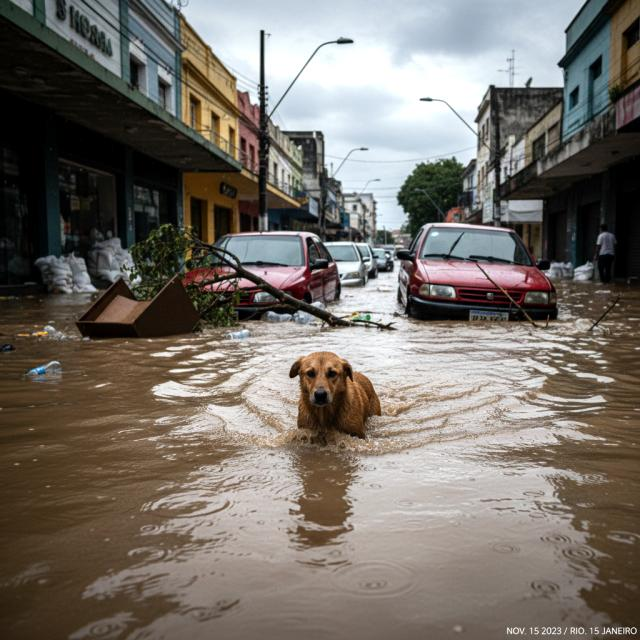dog: (280, 343, 396, 448)
